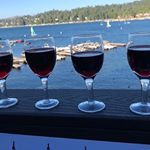other: (69, 31, 108, 115), (23, 33, 63, 111), (123, 31, 150, 117), (1, 37, 19, 109)
